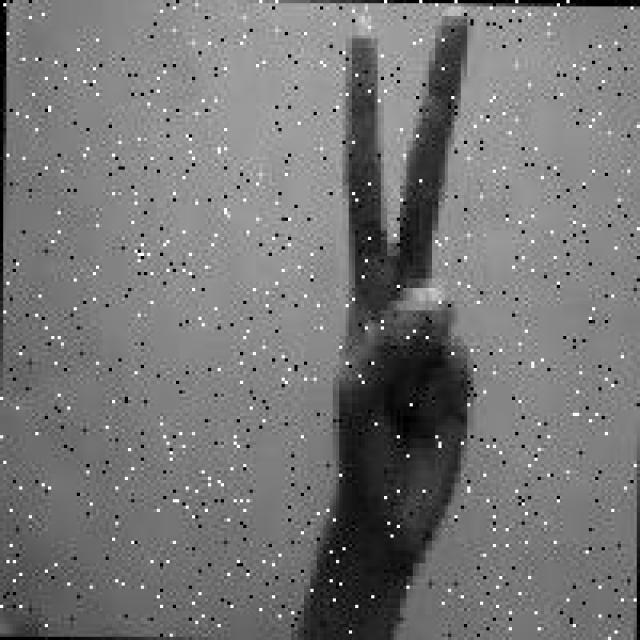V: (318, 4, 501, 566)
